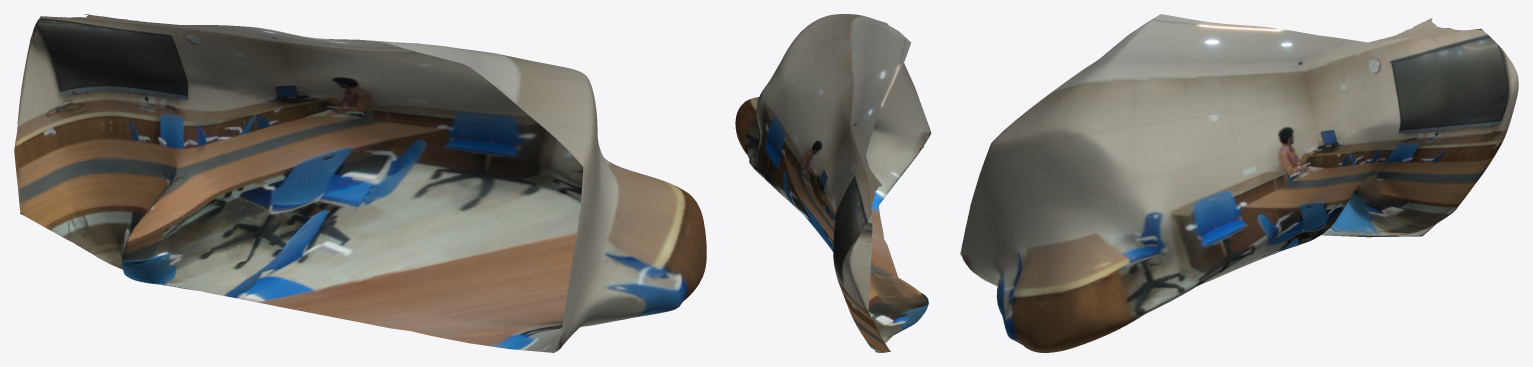
Rendered from survey_20260930150113_.glb.
The picture shows the model from 3 angles, left to right: view 1: azimuth 30°, elevation 25°; view 2: azimuth 150°, elevation 25°; view 3: azimuth 270°, elevation 25°; orthographic projection. The views are drawn at different scales.
Visible parts, largest first — view 1: 3DModel; view 2: 3DModel; view 3: 3DModel.
Part boxes in pixels (bbox=[...]): 3DModel: bbox=[14, 14, 706, 352]; 3DModel: bbox=[735, 14, 931, 352]; 3DModel: bbox=[960, 14, 1518, 352].
Size of the model in its own units: 1.12 by 0.7286 by 1.39.
Materials: 1 (1 with a texture image).
